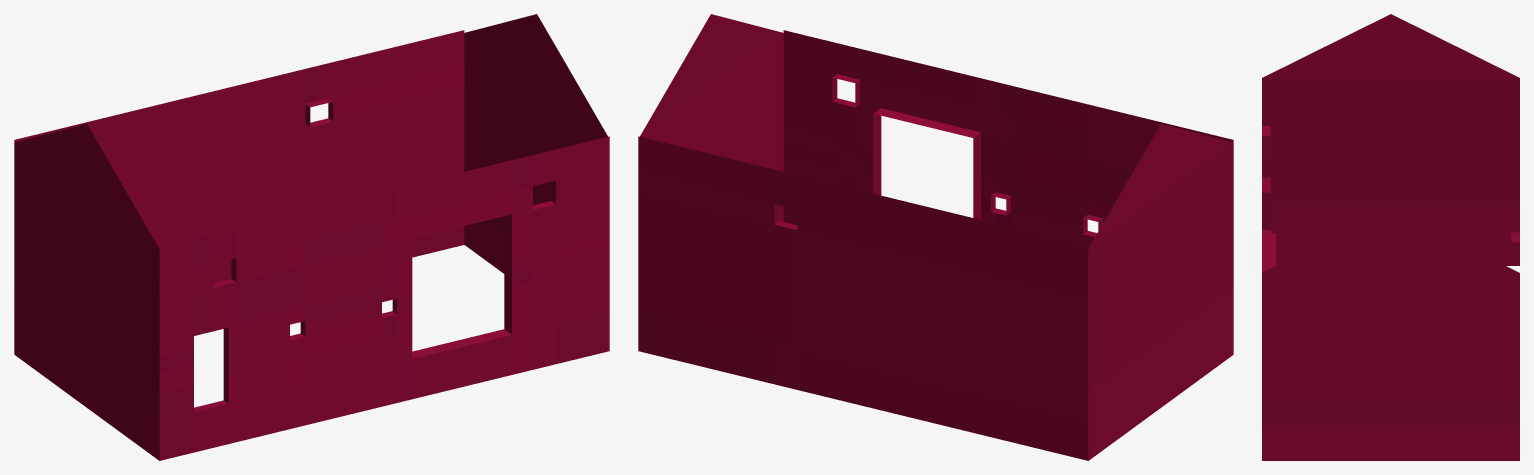
File: SM_Bld_003_Masonry.glb
3 renders of one model, left to right at view 1: azimuth 30°, elevation 25°; view 2: azimuth 150°, elevation 25°; view 3: azimuth 270°, elevation 25°, orthographic. The views are drawn at different scales.
Parts seen in each view (by area): view 1: SM_Bld_003_Masonry; view 2: SM_Bld_003_Masonry; view 3: SM_Bld_003_Masonry.
Part boxes in pixels (x1=…): SM_Bld_003_Masonry: x1=14, y1=14, x2=609, y2=460; SM_Bld_003_Masonry: x1=638, y1=14, x2=1233, y2=460; SM_Bld_003_Masonry: x1=1262, y1=14, x2=1519, y2=460.
Bounding box in the file's own units: 11.73 × 7.07 × 6.55.
